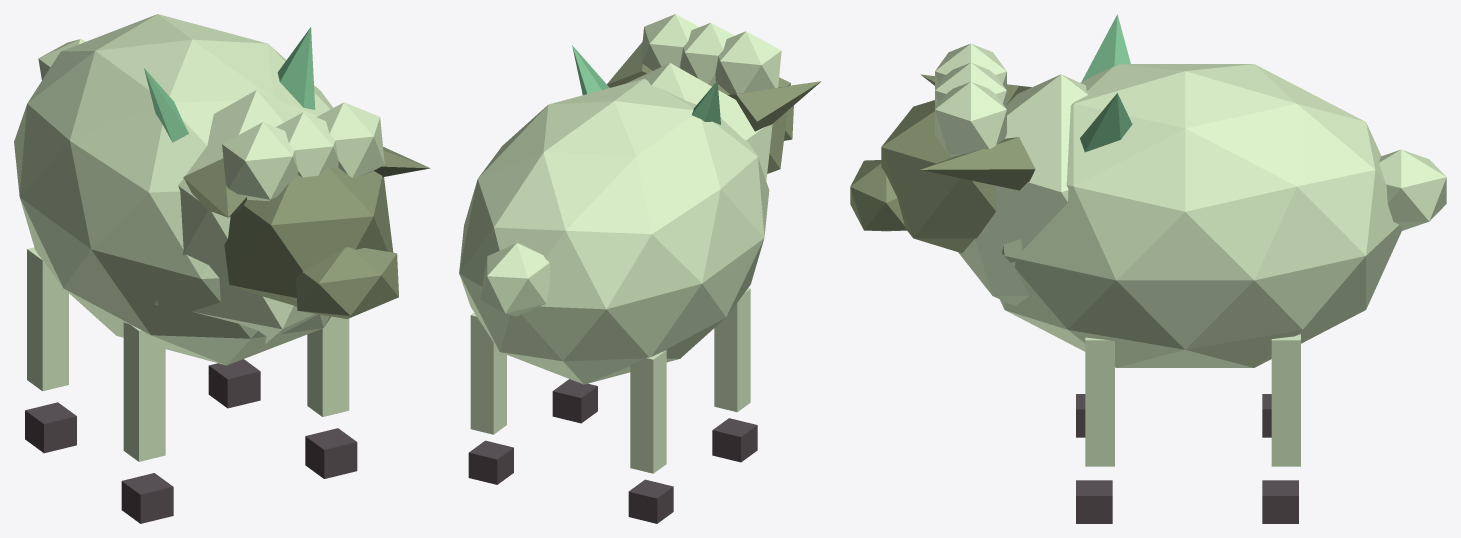
Rendered from meadow-ewe.glb.
The picture shows the model from 3 angles, left to right: view 1: azimuth 30°, elevation 25°; view 2: azimuth 150°, elevation 25°; view 3: azimuth 270°, elevation 25°; orthographic projection. The views are drawn at different scales.
Visible parts, largest first — view 1: wool_body, face, wool_chest, muzzle, leg, leg.002, crown_wool_0, leg.001, crown_wool_2, crown_wool_1, hoof, hoof.001 (+7 smaller); view 2: wool_body, leg.002, tail, leg, leg.003, crown_wool_0, wool_chest, crown_wool_2, ear_-1, crown_wool_1, hoof, hoof.002 (+6 smaller); view 3: wool_body, wool_chest, face, crown_wool_2, tail, leg.003, leg.001, ear_1, muzzle, hoof.001, hoof.003, leaf_1 (+3 smaller).
Part boxes in pixels (<box>): wool_body: <box>14,14,333,365</box>; face: <box>224,167,393,306</box>; wool_chest: <box>154,90,317,343</box>; muzzle: <box>296,247,398,318</box>; leg: <box>123,322,165,461</box>; leg.002: <box>27,247,68,391</box>; crown_wool_0: <box>222,122,298,201</box>; leg.001: <box>307,316,349,416</box>; crown_wool_2: <box>316,102,384,177</box>; crown_wool_1: <box>276,112,338,177</box>; hoof: <box>121,473,173,523</box>; hoof.001: <box>305,428,357,478</box>; wool_body: <box>459,79,769,384</box>; leg.002: <box>630,350,666,473</box>; tail: <box>480,243,550,316</box>; leg: <box>714,288,750,412</box>; leg.003: <box>470,312,506,434</box>; crown_wool_0: <box>715,31,781,94</box>; wool_chest: <box>626,63,772,183</box>; crown_wool_2: <box>640,14,699,70</box>; ear_-1: <box>727,81,821,131</box>; crown_wool_1: <box>680,22,734,84</box>; hoof: <box>712,418,757,462</box>; hoof.002: <box>628,479,673,523</box>; wool_body: <box>1000,64,1402,367</box>; wool_chest: <box>958,74,1087,306</box>; face: <box>881,100,995,253</box>; crown_wool_2: <box>935,81,1006,156</box>; tail: <box>1379,149,1446,230</box>; leg.003: <box>1271,334,1300,466</box>; leg.001: <box>1085,337,1114,466</box>; ear_1: <box>920,137,1035,190</box>; muzzle: <box>850,160,906,231</box>; hoof.001: <box>1076,480,1112,523</box>; hoof.003: <box>1262,480,1298,523</box>; leaf_1: <box>1080,93,1132,152</box>.
Bounding box in the file's own units: 1.08 × 1.64 × 2.11.
